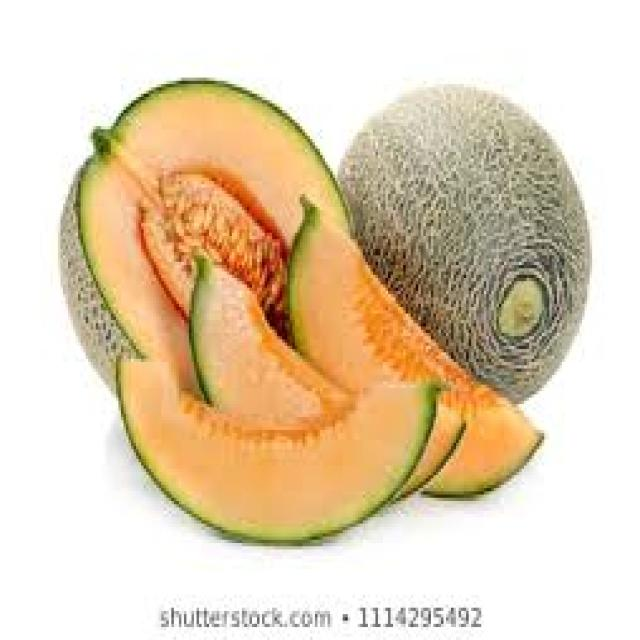cantaloupe: (63, 77, 349, 397), (289, 194, 546, 498), (117, 361, 443, 547)
